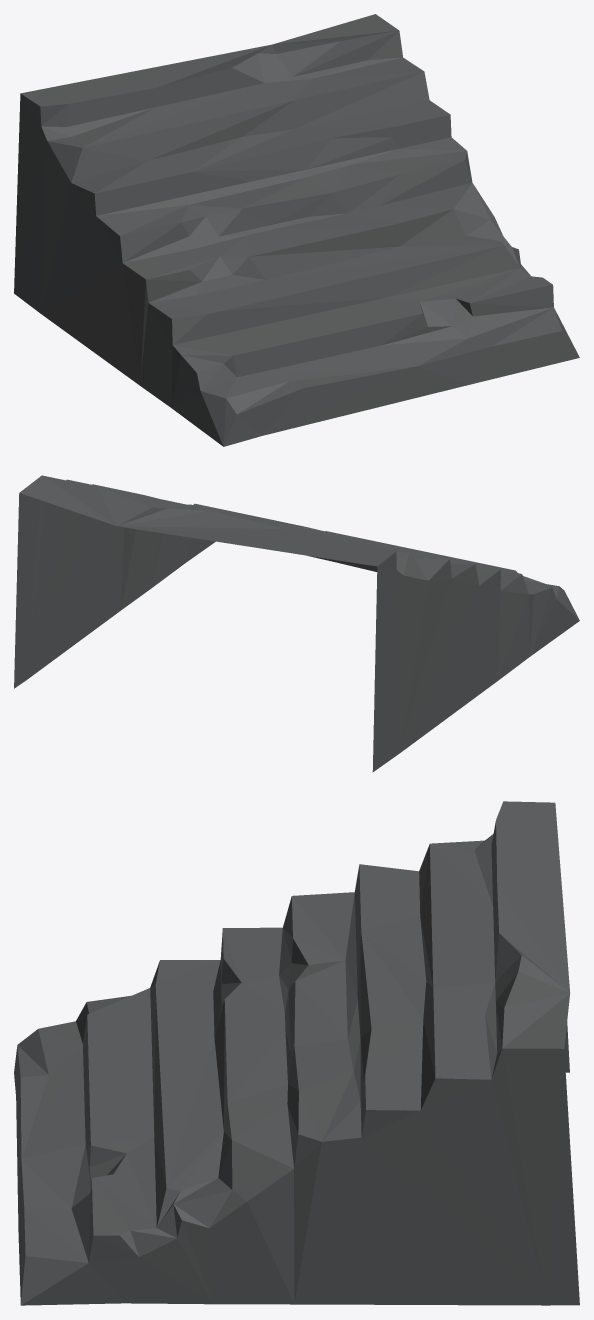
The model's file is Stairs_00.FBX.
The picture shows the model from 3 angles, top to bottom: view 1: azimuth 30°, elevation 25°; view 2: azimuth 150°, elevation 25°; view 3: azimuth 270°, elevation 25°; orthographic projection. The views are drawn at different scales.
Parts seen in each view (by area): view 1: Stairs_00; view 2: Stairs_00; view 3: Stairs_00.
Part boxes in pixels (left/top/right/bottom): Stairs_00: left=14, top=14, right=579, bottom=446; Stairs_00: left=14, top=475, right=579, bottom=772; Stairs_00: left=14, top=801, right=579, bottom=1305.
Bounding box in the file's own units: 4.96 × 2.71 × 5.09.
